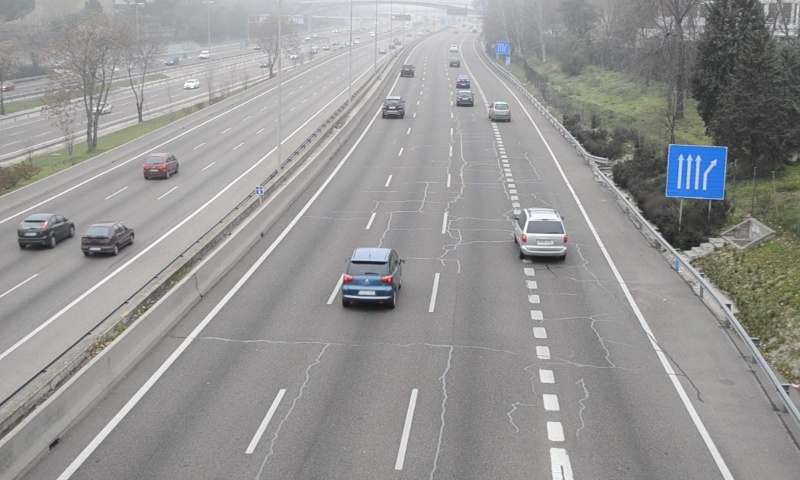car: (340, 248, 402, 303), (516, 207, 568, 256), (488, 100, 512, 123), (382, 96, 404, 120), (456, 89, 474, 107)
